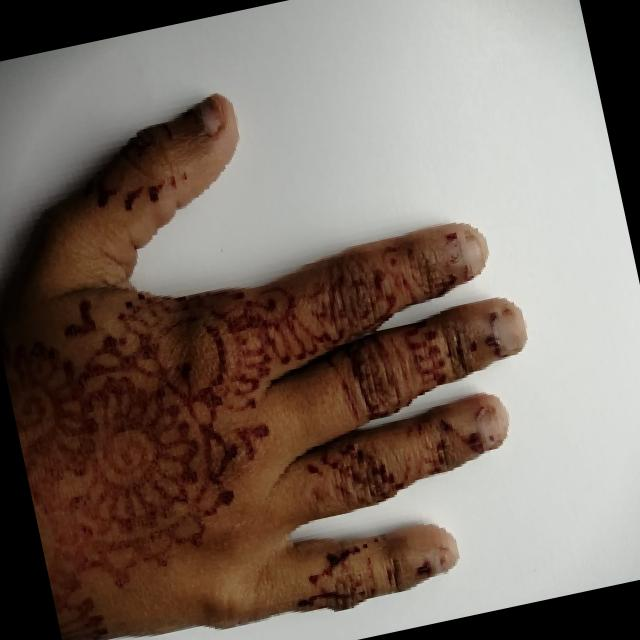Nail: (491, 309, 520, 351), (477, 405, 502, 448), (195, 97, 219, 136), (460, 236, 484, 273), (436, 542, 453, 571)
